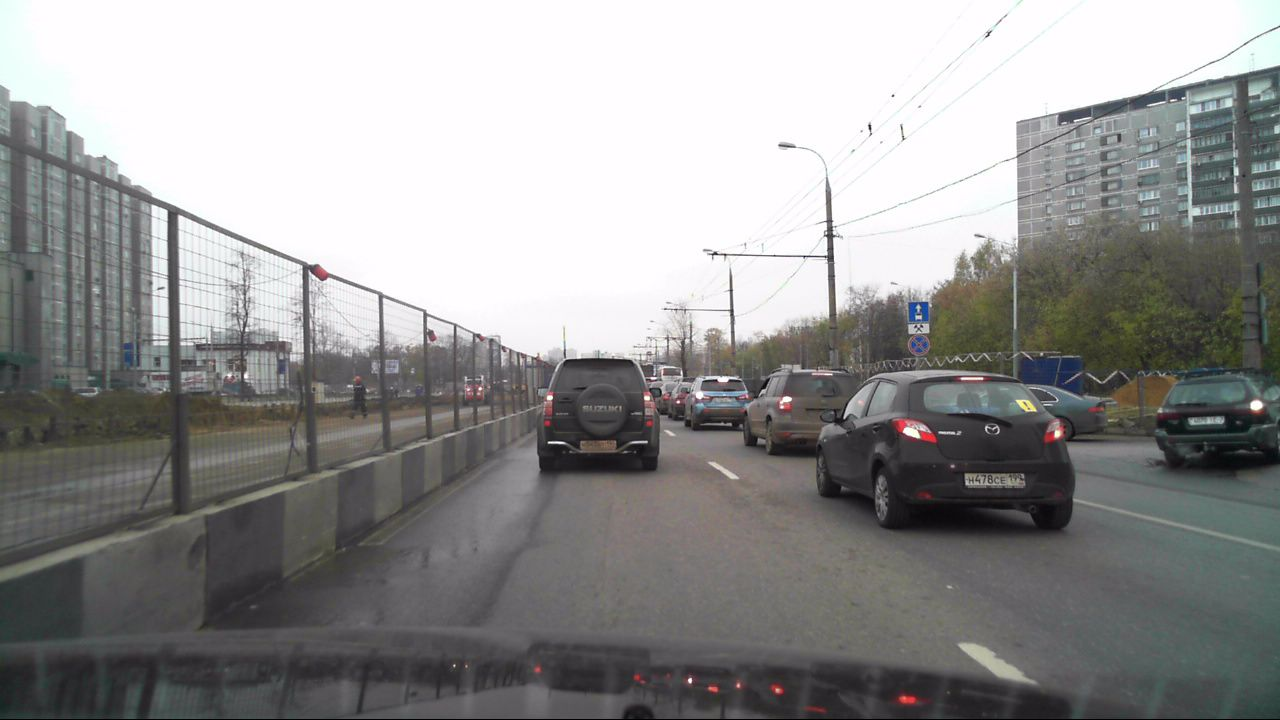No Parking: (907, 335, 929, 356)
